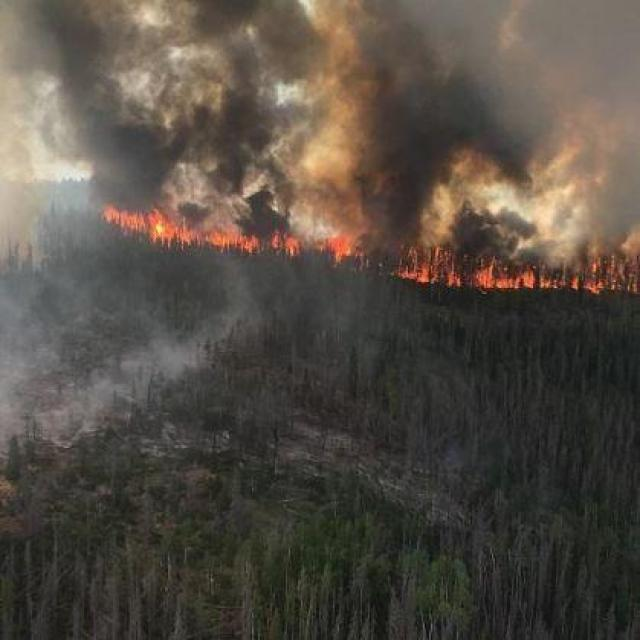Fire: (401, 249, 637, 292), (286, 224, 374, 262)
Smoke: (0, 0, 93, 272)
